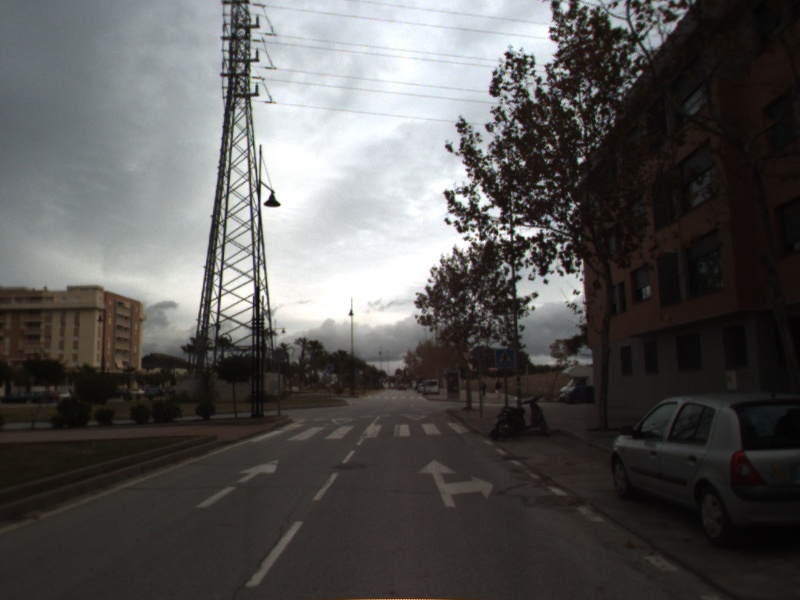STRAIGHT: (194, 457, 280, 510)
STRAIGHT_RIGHT: (415, 457, 495, 509)
